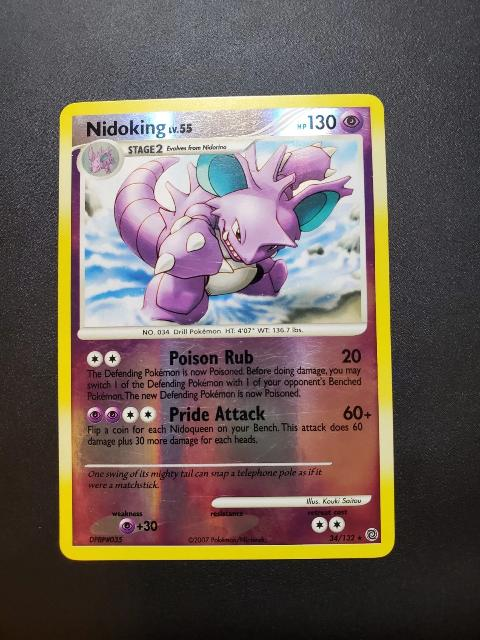Card: (56, 90, 398, 565)
Name: (77, 114, 168, 141)
